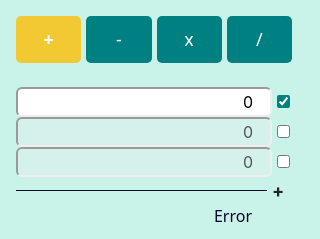
Test: <InputNumber /> › should not show Error anymore
Click the 2nd checkbox at (284, 132), box x1=277 y1=125 x2=290 y2=138
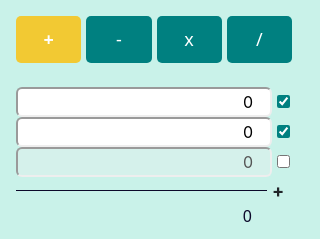
expect the text "Error" is gone: met
